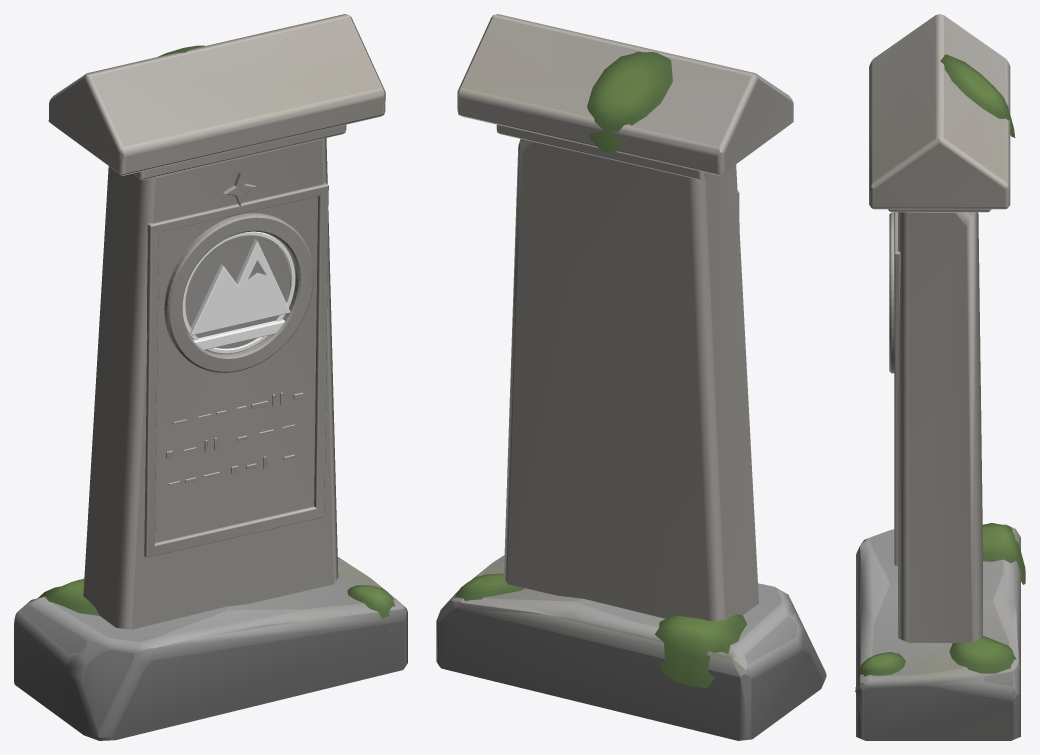
The model's file is stele_earth.glb.
3 renders of one model, left to right at view 1: azimuth 30°, elevation 25°; view 2: azimuth 150°, elevation 25°; view 3: azimuth 270°, elevation 25°, orthographic. The views are drawn at different scales.
Parts seen in each view (by area): view 1: stele_earth_LOD0; view 2: stele_earth_LOD0; view 3: stele_earth_LOD0.
Boxes of the visible parts, x1=… form: stele_earth_LOD0: x1=14, y1=14, x2=407, y2=740; stele_earth_LOD0: x1=436, y1=14, x2=826, y2=740; stele_earth_LOD0: x1=855, y1=14, x2=1025, y2=740.
Size of what is drawn, in the model's own units: 1.32 by 2.52 by 0.6517.
